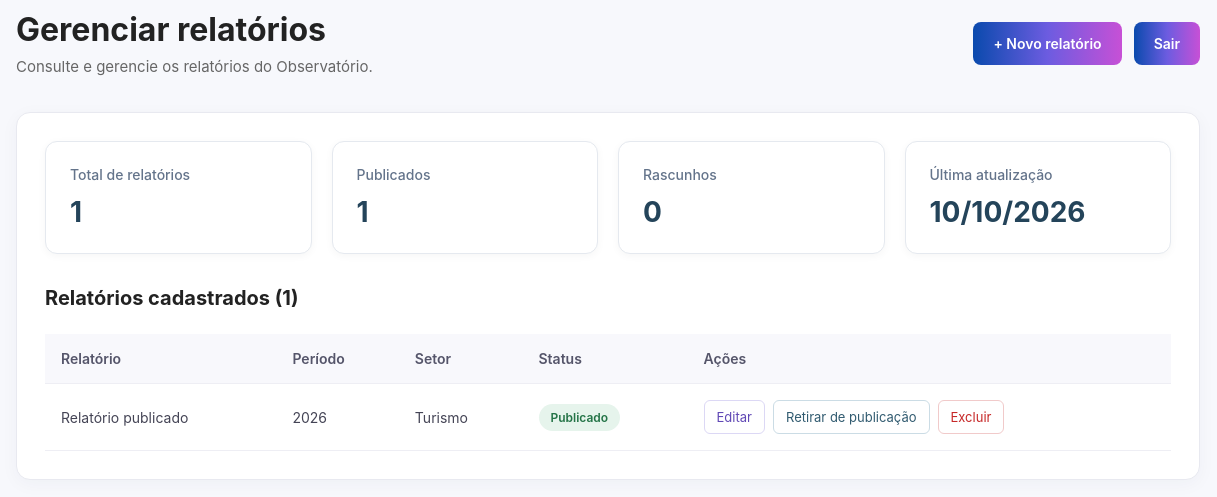
Test: AdminReports › retira um relatório de publicação
Expected: the text "Publicado" is shown, x1=538 y1=404 x2=620 y2=430
Click the button "Retirar de publicação": (851, 417) x1=773 y1=400 x2=930 y2=434
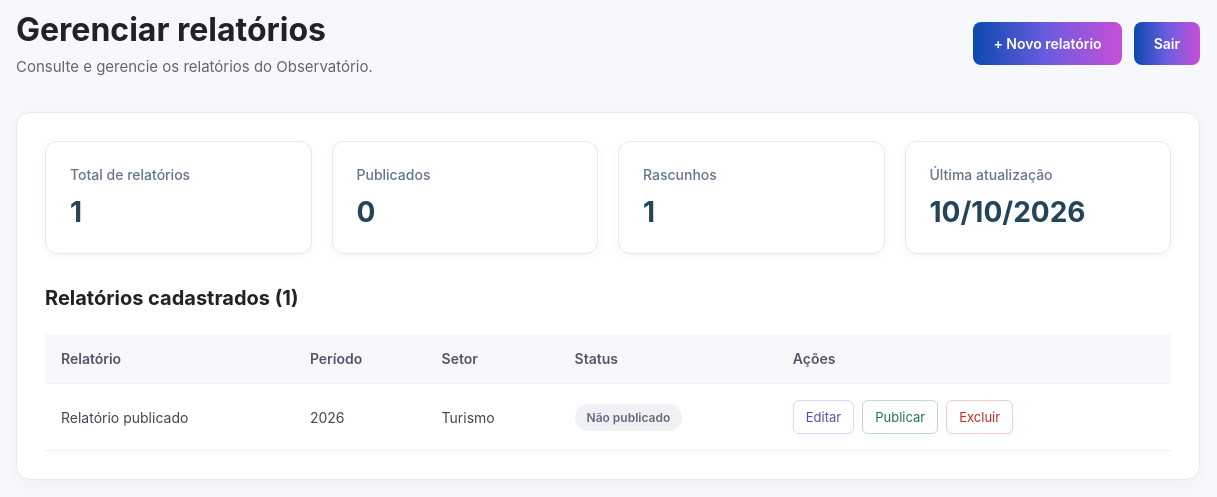
Expected: the text "Não publicado" is shown, x1=574 y1=404 x2=682 y2=430
